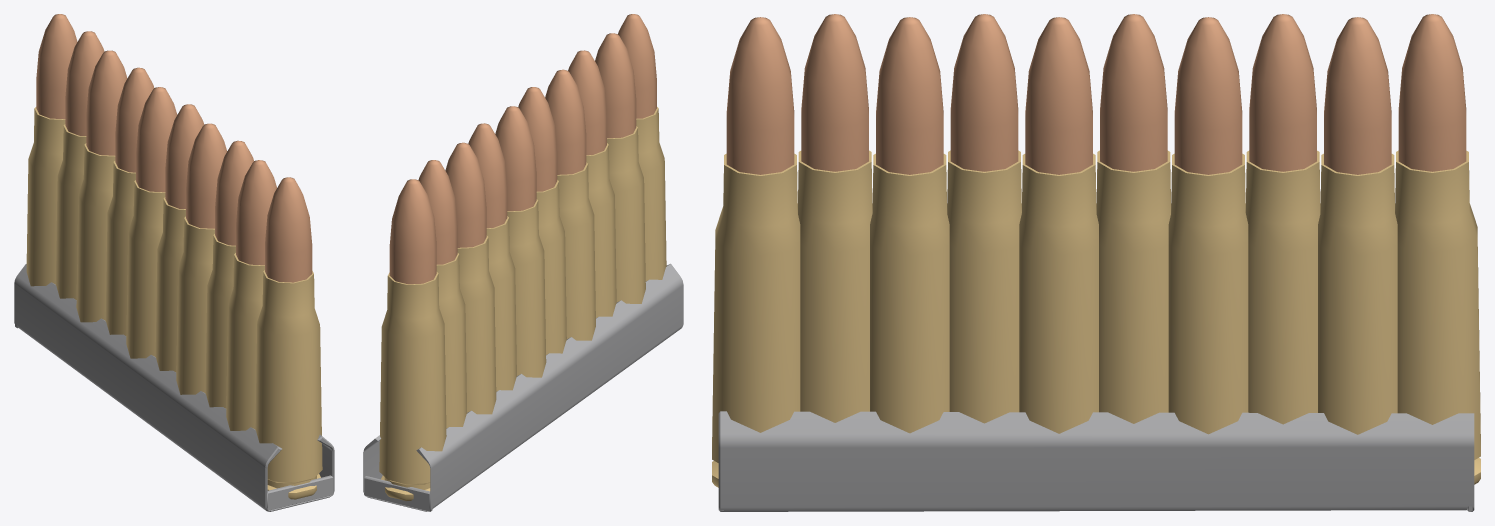
File: sks_clip.glb
3 renders of one model, left to right at view 1: azimuth 30°, elevation 25°; view 2: azimuth 150°, elevation 25°; view 3: azimuth 270°, elevation 25°, orthographic. The views are drawn at different scales.
Visible parts, largest first — view 1: static_clip, round_10, round_3, round_1, round_5, round_7, round_9, round_2, round_4, round_6, round_8; view 2: static_clip, round_1, round_3, round_5, round_7, round_9, round_4, round_6, round_2, round_8, round_10; view 3: static_clip, round_10, round_1, round_4, round_2, round_6, round_8, round_7, round_3, round_5, round_9.
Part boxes in pixels (<box>): static_clip: <box>14,264,334,511</box>; round_10: <box>255,177,322,499</box>; round_3: <box>76,50,127,322</box>; round_1: <box>26,14,77,286</box>; round_5: <box>126,87,177,358</box>; round_7: <box>176,123,227,394</box>; round_9: <box>226,160,276,430</box>; round_2: <box>55,31,104,299</box>; round_4: <box>105,67,154,335</box>; round_6: <box>155,104,204,372</box>; round_8: <box>205,140,253,408</box>; static_clip: <box>363,263,683,511</box>; round_1: <box>379,179,446,501</box>; round_3: <box>445,142,496,414</box>; round_5: <box>495,106,546,377</box>; round_7: <box>545,69,595,340</box>; round_9: <box>595,33,645,303</box>; round_4: <box>468,123,516,391</box>; round_6: <box>518,87,566,354</box>; round_2: <box>418,160,467,428</box>; round_8: <box>568,50,616,317</box>; round_10: <box>618,14,666,281</box>; static_clip: <box>718,411,1474,511</box>; round_10: <box>712,17,800,487</box>; round_1: <box>1395,14,1480,484</box>; round_4: <box>1168,17,1248,434</box>; round_2: <box>1318,17,1397,434</box>; round_6: <box>1019,17,1098,433</box>; round_8: <box>870,17,949,433</box>; round_7: <box>947,14,1021,423</box>; round_3: <box>1245,14,1320,424</box>; round_5: <box>1096,14,1171,423</box>; round_9: <box>797,14,872,422</box>.
Bounding box in the file's own units: 0.0132 × 0.0583 × 0.0845.
